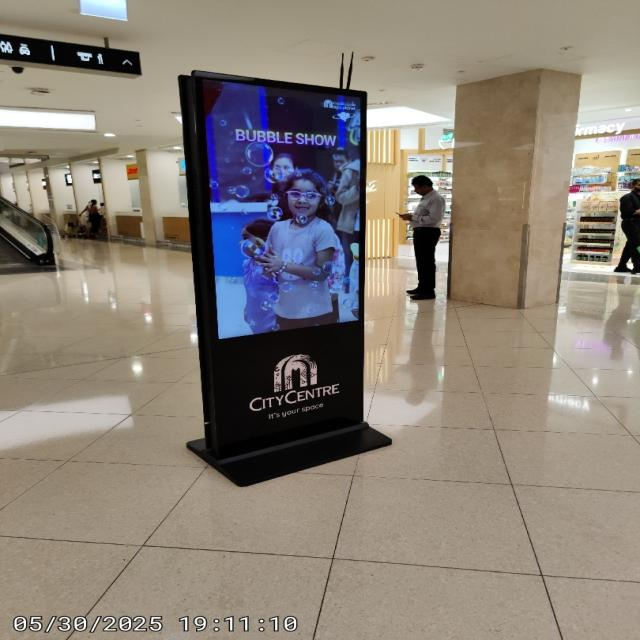mupi: (196, 73, 367, 457)
